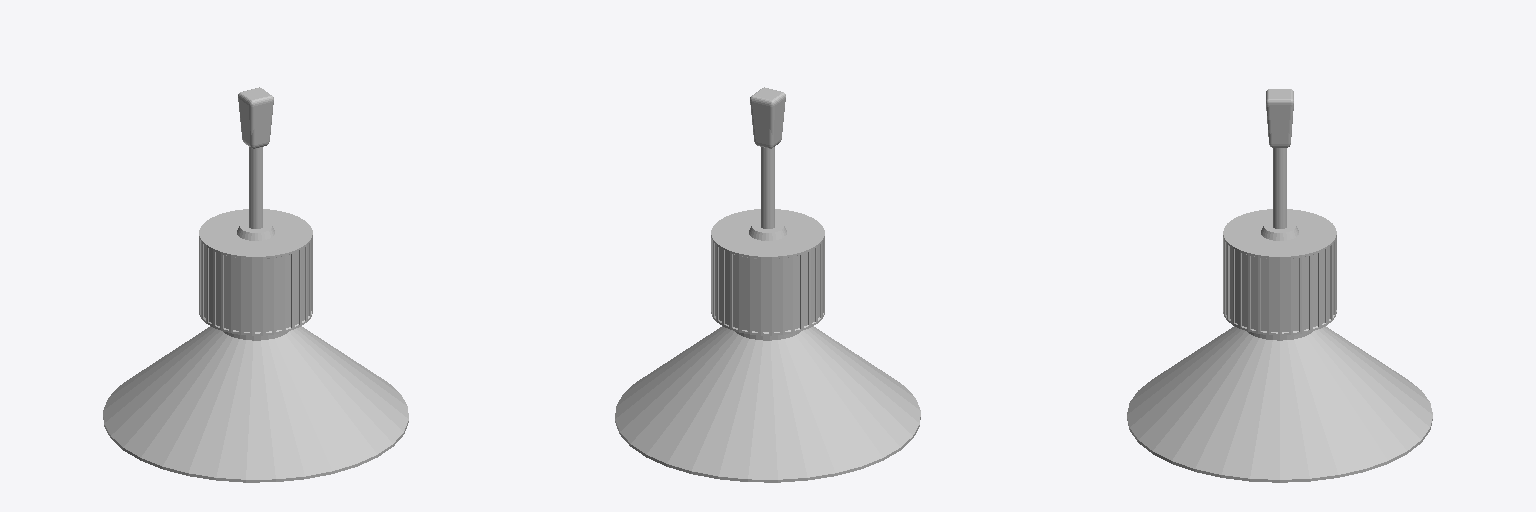
File: StartingAreaLightsHolder.obj
3 renders of one model, left to right at view 1: azimuth 30°, elevation 25°; view 2: azimuth 150°, elevation 25°; view 3: azimuth 270°, elevation 25°, orthographic.
Visible parts, largest first — view 1: Cube; view 2: Cube; view 3: Cube.
Part boxes in pixels (bbox=[...]): Cube: bbox=[103, 87, 408, 482]; Cube: bbox=[615, 87, 920, 482]; Cube: bbox=[1127, 89, 1432, 482].
Bounding box in the file's own units: 2.05 × 2.39 × 2.05.